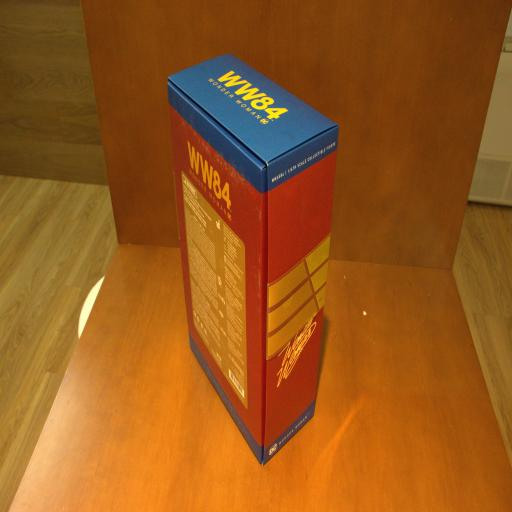WonderWoman: (168, 51, 339, 468)
